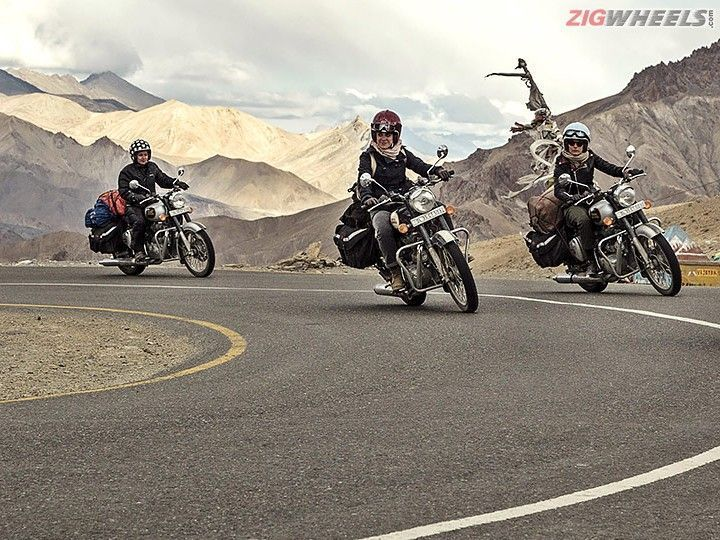bike: (522, 153, 686, 299), (341, 162, 481, 317), (88, 177, 229, 281)
